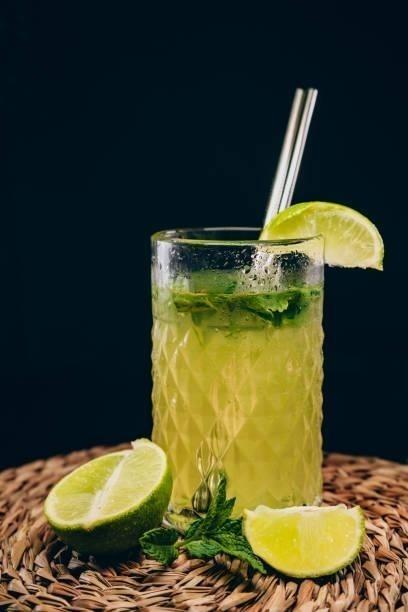glass-normal: (146, 223, 329, 528)
